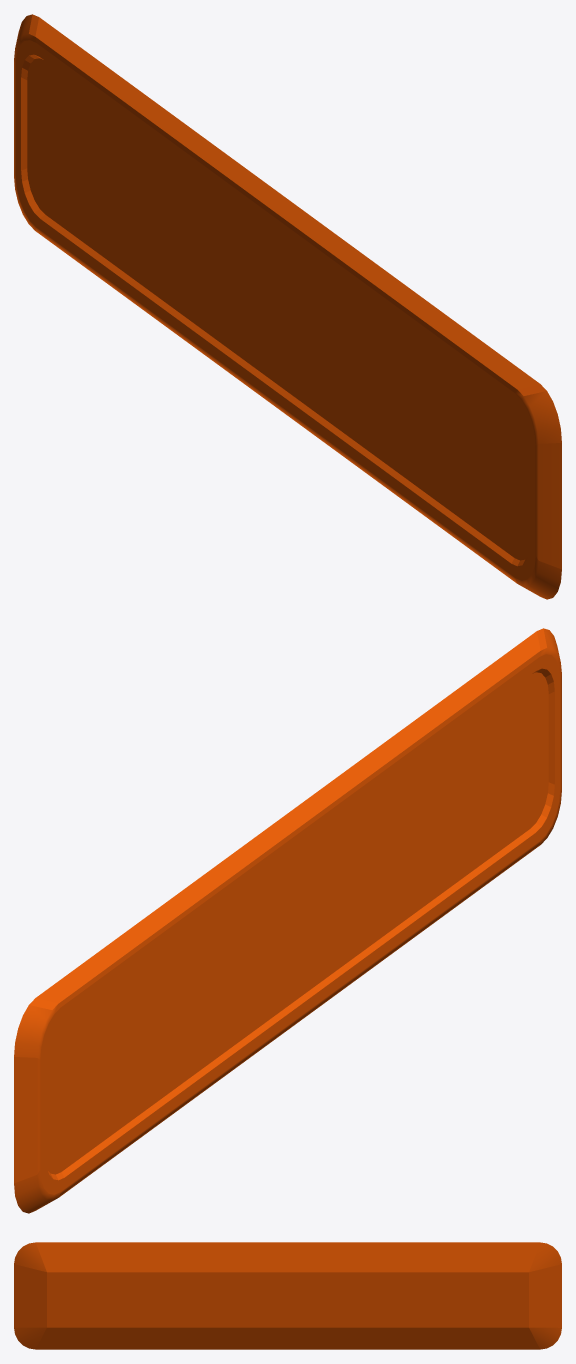
File: Code_Machine_06_Screen.fbx
3 renders of one model, top to bottom at view 1: azimuth 30°, elevation 25°; view 2: azimuth 150°, elevation 25°; view 3: azimuth 270°, elevation 25°, orthographic. The views are drawn at different scales.
Parts seen in each view (by area): view 1: Code_Machine_06_Screen; view 2: Code_Machine_06_Screen; view 3: Code_Machine_06_Screen.
Boxes of the visible parts, left/top/right/bottom form: Code_Machine_06_Screen: left=14, top=14, right=561, bottom=599; Code_Machine_06_Screen: left=14, top=628, right=561, bottom=1213; Code_Machine_06_Screen: left=14, top=1242, right=561, bottom=1349.
Bounding box in the file's own units: 0.5924 × 4.01 × 18.6.
